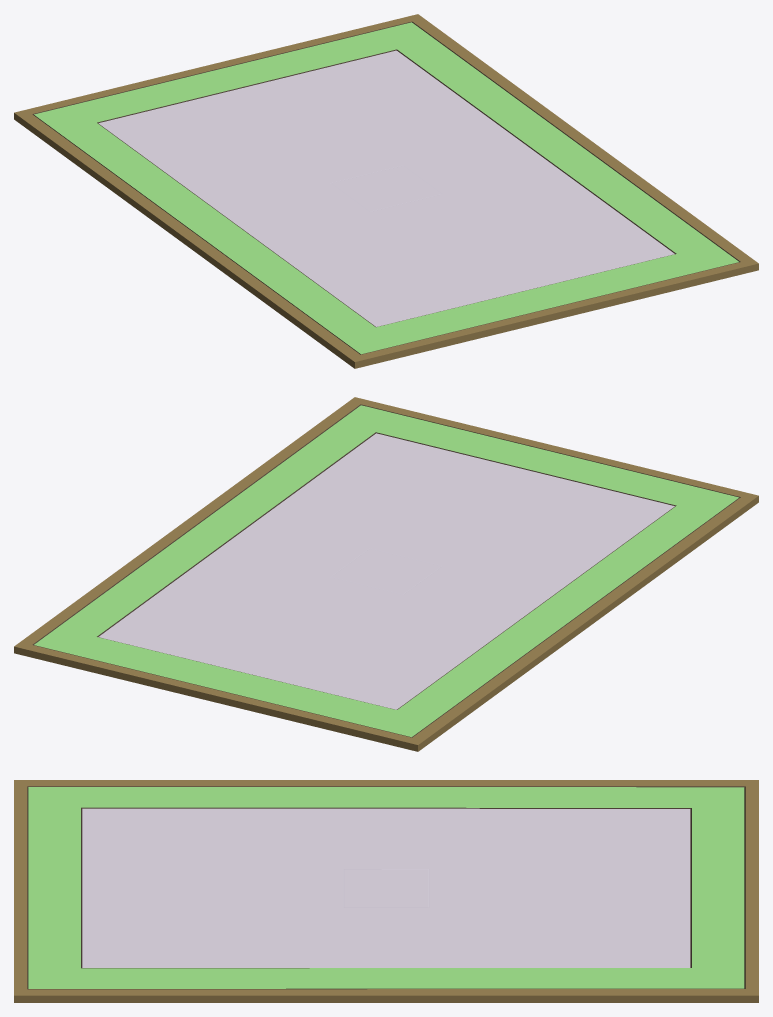
File: LibrraryFloor.fbx
3 renders of one model, top to bottom at view 1: azimuth 30°, elevation 25°; view 2: azimuth 150°, elevation 25°; view 3: azimuth 270°, elevation 25°, orthographic. The views are drawn at different scales.
Parts seen in each view (by area): view 1: Plane; view 2: Plane; view 3: Plane.
Boxes of the visible parts, bbox=[...] form: Plane: bbox=[14, 14, 758, 368]; Plane: bbox=[14, 397, 758, 751]; Plane: bbox=[14, 780, 758, 1002].
Bounding box in the file's own units: 908 × 15.97 × 1326.
